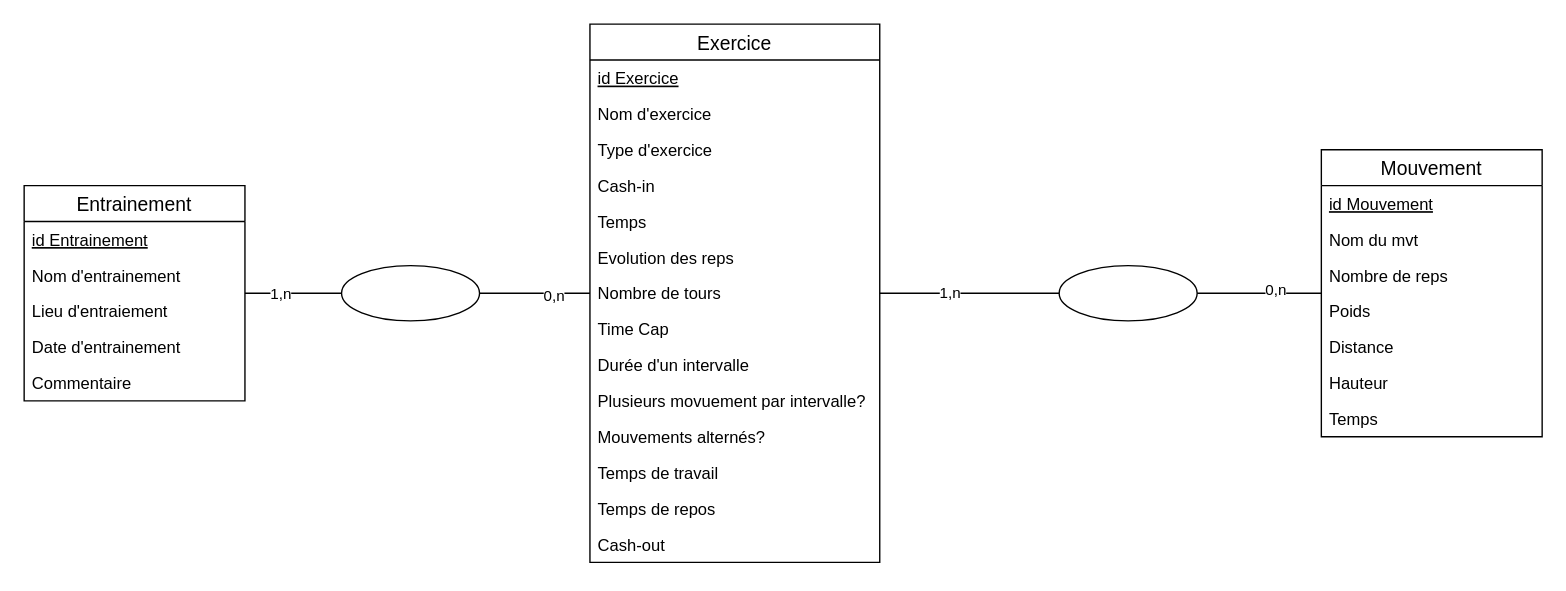
The diagram is 1566 pixels wide and 591 high, and some of its shapes have lost their labels. The shapes that lost their labels are listed below. From the top down, each one's centre as x and y in pixels, then its label:
At point (410, 292): "Constitue".
At point (1127, 292): "Fait".
